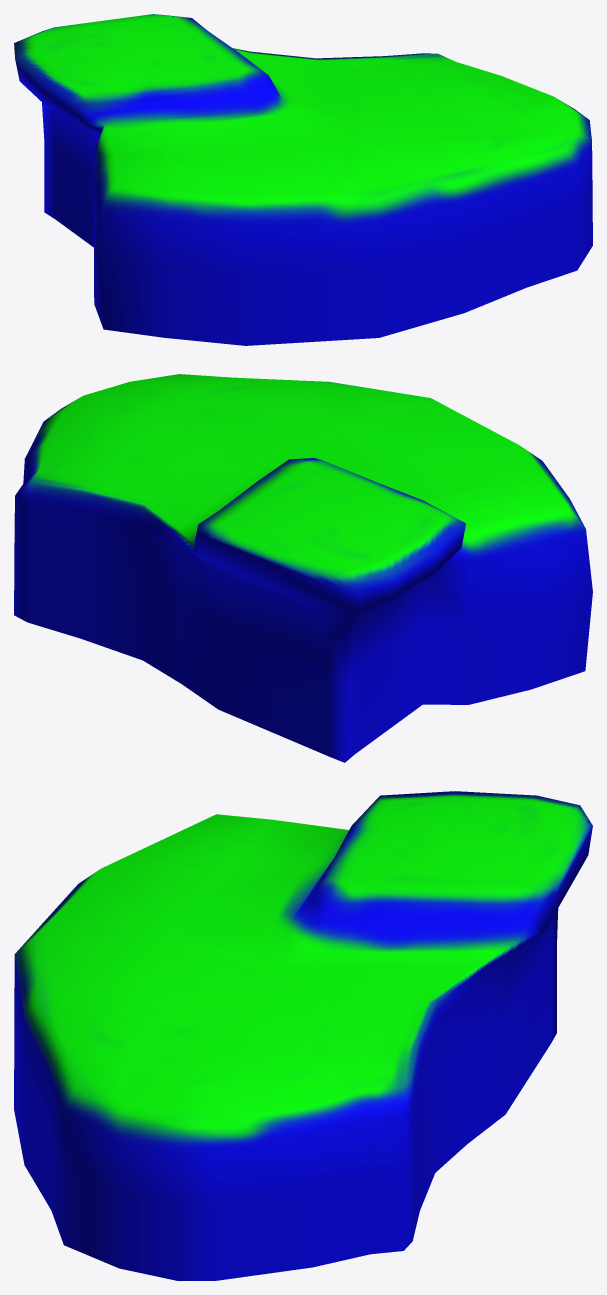
File: TempleIslandShape.dae
The picture shows the model from 3 angles, top to bottom: view 1: azimuth 30°, elevation 25°; view 2: azimuth 150°, elevation 25°; view 3: azimuth 270°, elevation 25°; orthographic projection. The views are drawn at different scales.
Parts seen in each view (by area): view 1: TempleIsland; view 2: TempleIsland; view 3: TempleIsland.
Boxes of the visible parts, left/top/right/bottom form: TempleIsland: left=14, top=14, right=592, bottom=345; TempleIsland: left=14, top=374, right=592, bottom=762; TempleIsland: left=14, top=791, right=592, bottom=1280.
Bounding box in the file's own units: 120 × 42.42 × 98.26.
